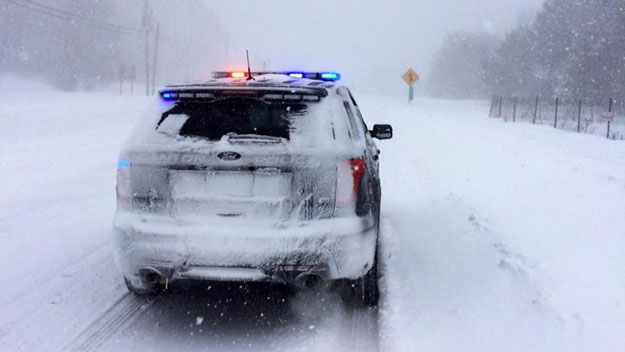car: (113, 70, 393, 307)
